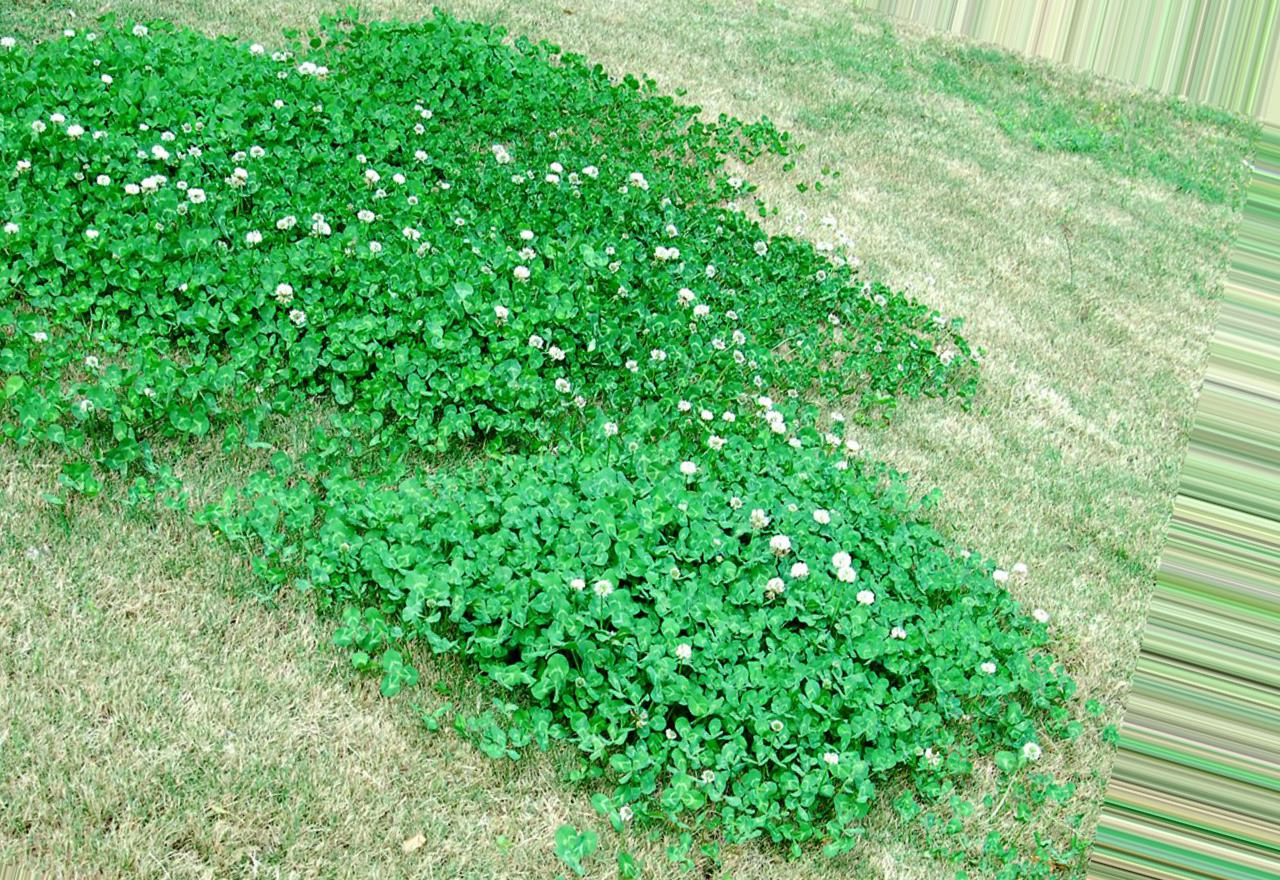patch: (5, 513, 166, 871), (213, 615, 398, 875), (971, 153, 1175, 364), (799, 56, 940, 235), (935, 422, 1153, 519), (415, 756, 509, 880), (1001, 536, 1139, 602), (688, 3, 762, 103)
